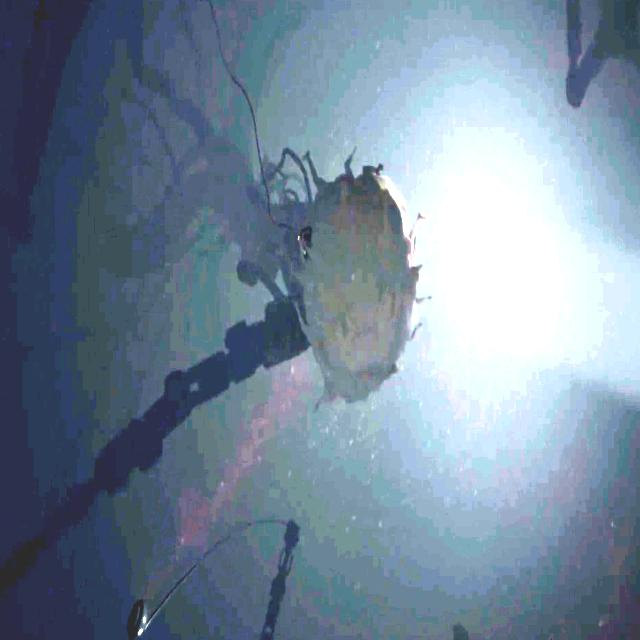blob: (300, 146, 430, 408)
interactible: (124, 597, 148, 640)
mechanism: (0, 290, 312, 587), (565, 0, 640, 109), (258, 520, 302, 640)
